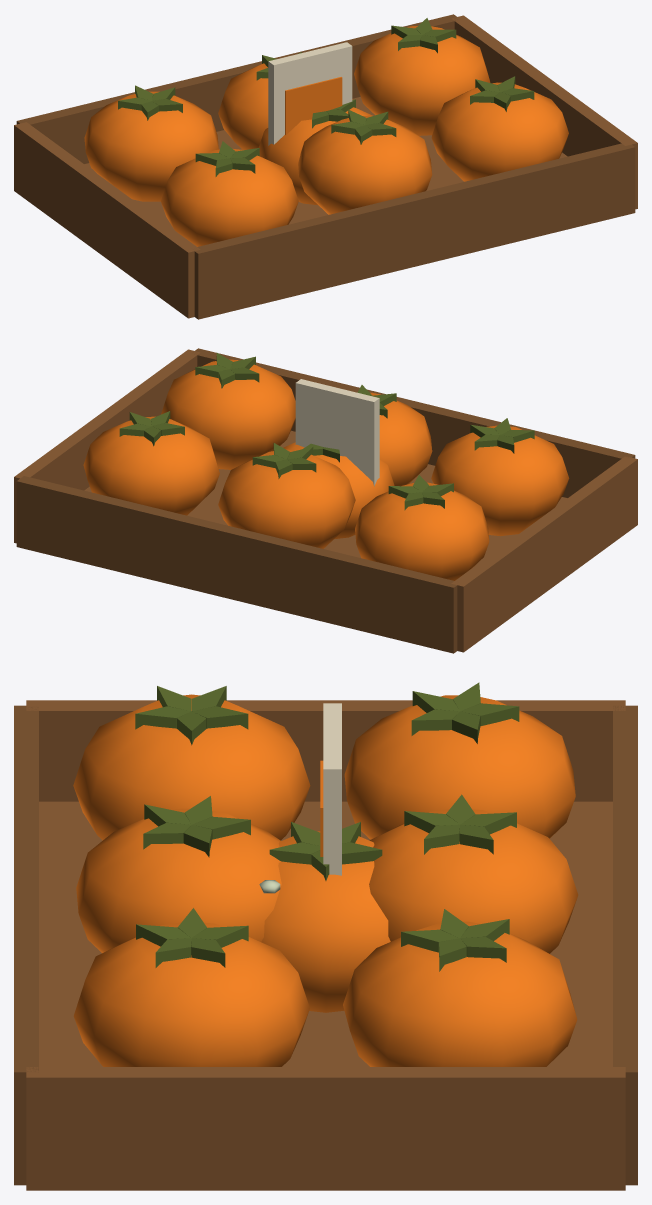
The model's file is Fruit_Persimmon.fbx.
3 renders of one model, top to bottom at view 1: azimuth 30°, elevation 25°; view 2: azimuth 150°, elevation 25°; view 3: azimuth 270°, elevation 25°, orthographic. The views are drawn at different scales.
Visible parts, largest first — view 1: Fruit_Persimmon__Stack, Fruit_Persimmon__Seed, Fruit_Persimmon; view 2: Fruit_Persimmon__Stack, Fruit_Persimmon__Seed, Fruit_Persimmon; view 3: Fruit_Persimmon__Stack, Fruit_Persimmon, Fruit_Persimmon__Seed.
Boxes of the visible parts, left/top/right/bottom form: Fruit_Persimmon__Stack: left=14, top=14, right=637, bottom=319; Fruit_Persimmon__Seed: left=268, top=42, right=352, bottom=145; Fruit_Persimmon: left=258, top=99, right=372, bottom=205; Fruit_Persimmon__Stack: left=14, top=348, right=637, bottom=653; Fruit_Persimmon__Seed: left=295, top=379, right=379, bottom=486; Fruit_Persimmon: left=283, top=442, right=394, bottom=539; Fruit_Persimmon__Stack: left=14, top=682, right=637, bottom=1190; Fruit_Persimmon: left=261, top=822, right=390, bottom=1012; Fruit_Persimmon__Seed: left=320, top=703, right=341, bottom=875.
Bounding box in the file's own units: 0.286 × 0.09 × 0.2.
